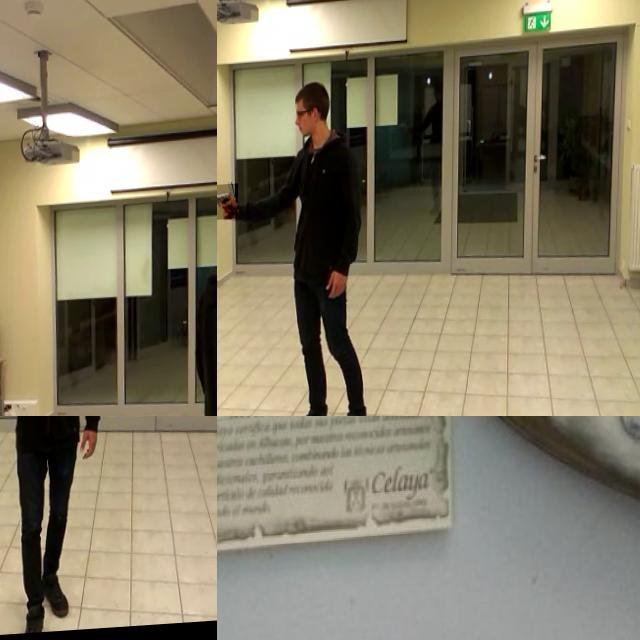-: (217, 416, 485, 569)
gun-knife-thesis - v11 Yolov5 augmented: (217, 185, 238, 222), (0, 416, 23, 448)
